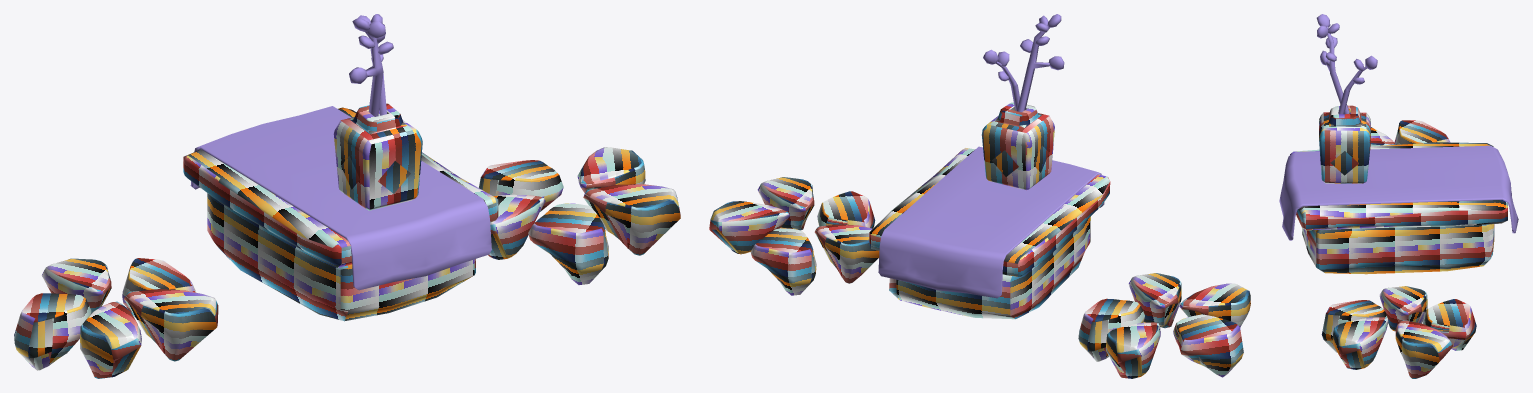
Rendered from Prop_TeaSet.glb.
3 renders of one model, left to right at view 1: azimuth 30°, elevation 25°; view 2: azimuth 150°, elevation 25°; view 3: azimuth 270°, elevation 25°, orthographic. The views are drawn at different scales.
Parts seen in each view (by area): view 1: Prop_TeaSet; view 2: Prop_TeaSet; view 3: Prop_TeaSet.
Part boxes in pixels (box(x1,y1,x2,y2)): Prop_TeaSet: box(14, 14, 680, 378); Prop_TeaSet: box(709, 14, 1250, 378); Prop_TeaSet: box(1279, 14, 1518, 378).
Bounding box in the file's own units: 23.38 × 11.79 × 10.2.
1 material, 1 textured.
